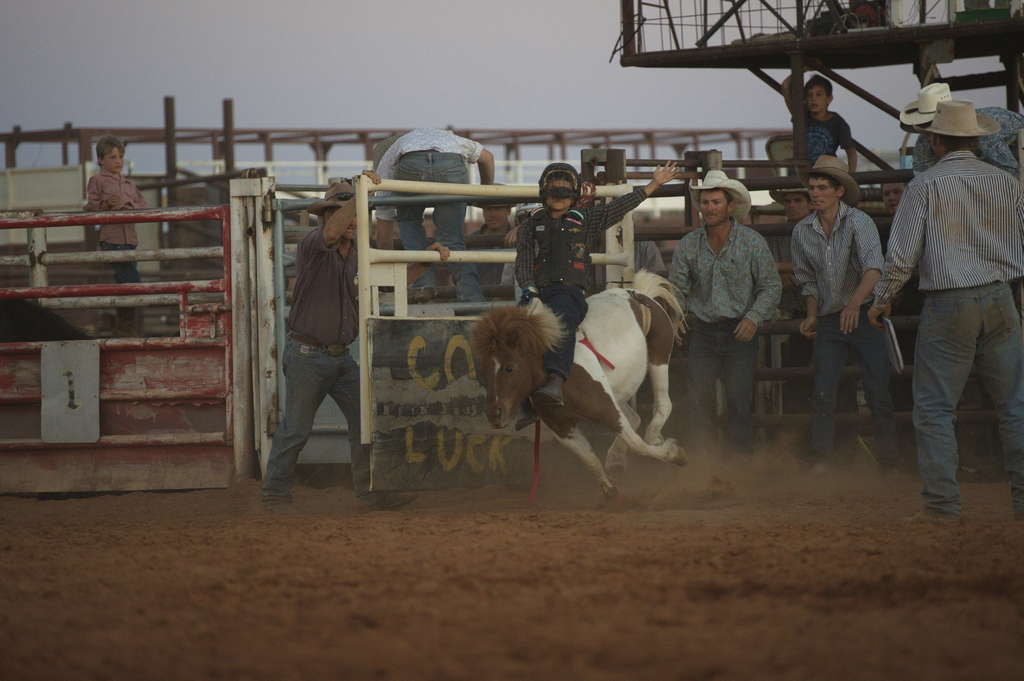Person: (865, 100, 1023, 526), (256, 166, 421, 516), (513, 161, 679, 406), (787, 157, 902, 466), (668, 166, 780, 457), (372, 125, 494, 313), (81, 135, 149, 335), (902, 78, 1024, 169), (782, 67, 858, 173), (472, 180, 521, 283)
